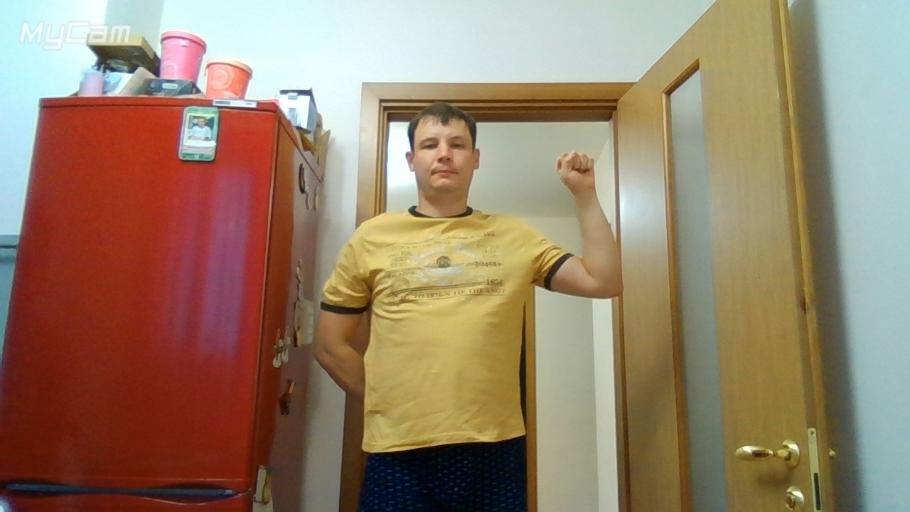fist: (551, 144, 600, 199)
